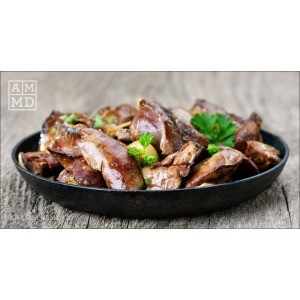liver_brain food: (71, 106, 207, 177)
